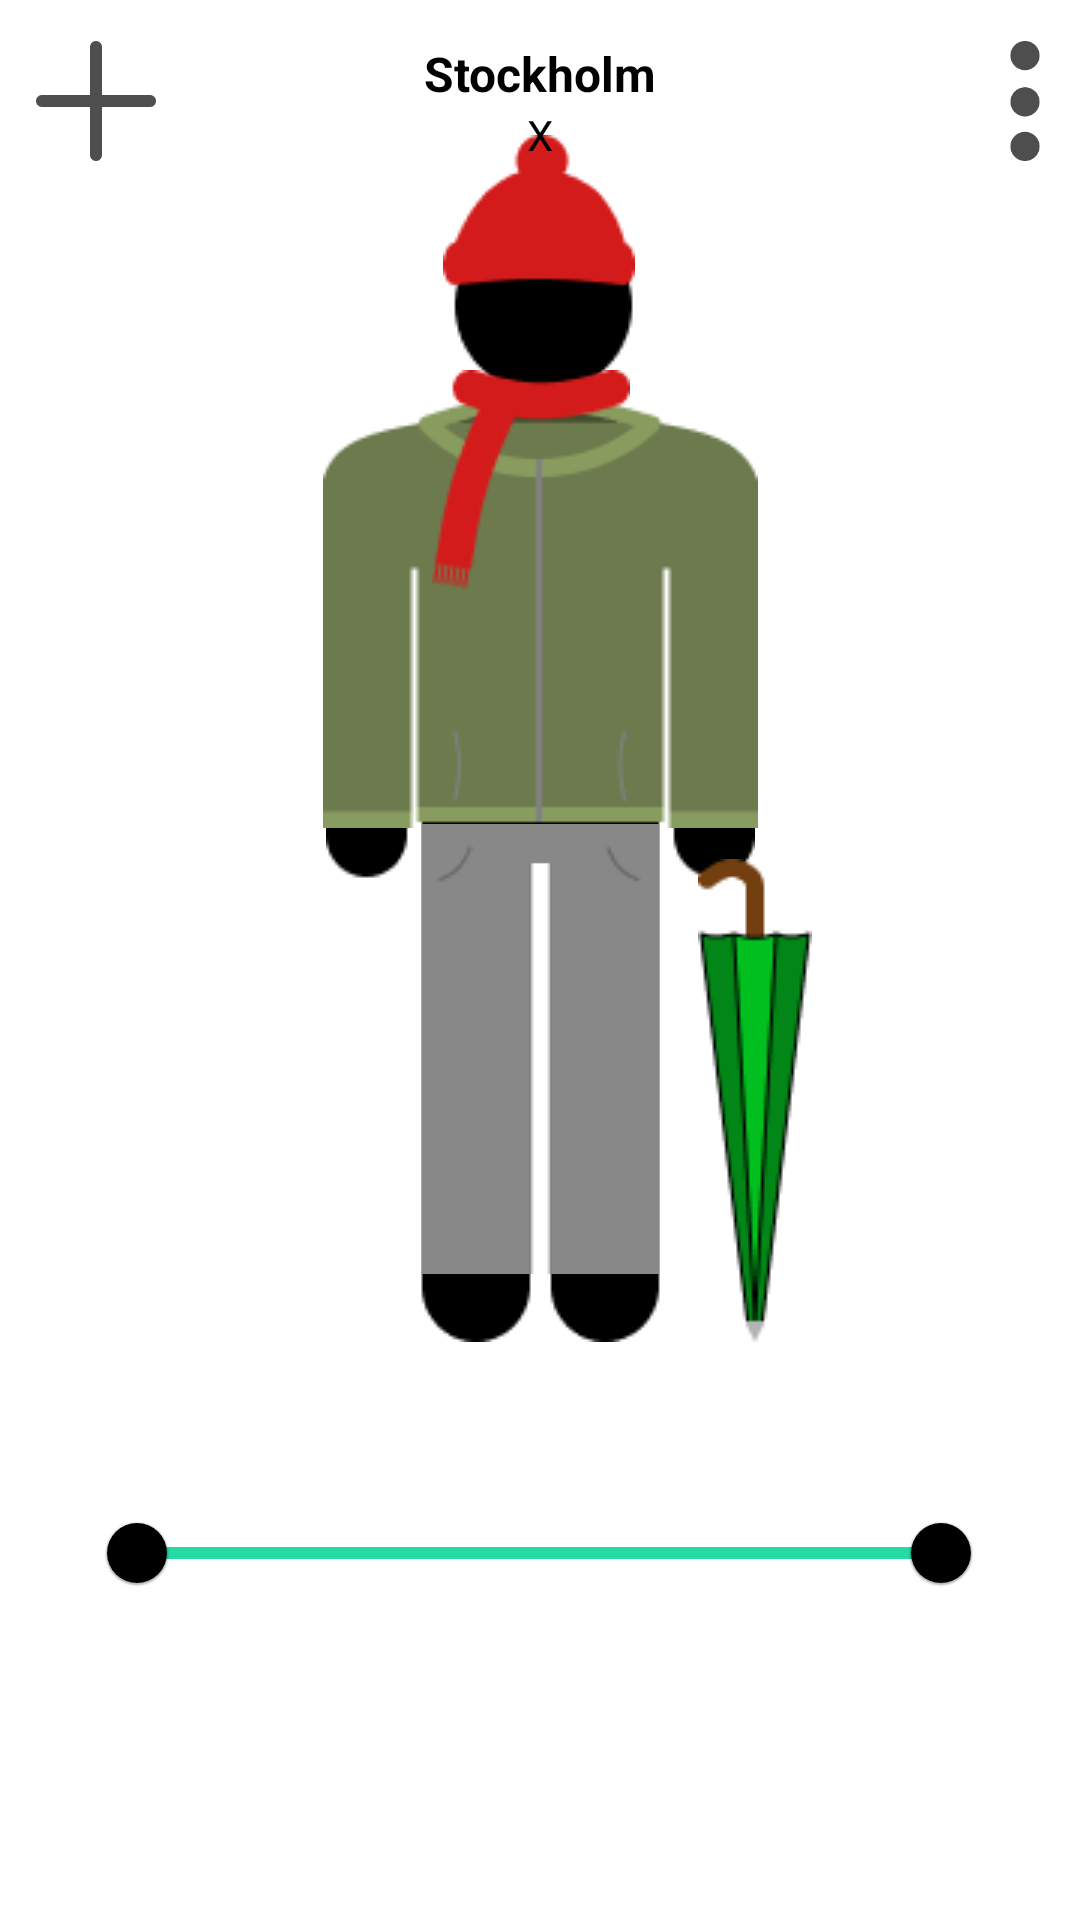

Icon click points for this 1080px×1920px phone screenshot, format point (x, y):
plus: point (96, 101)
settings dots vertical: point (1025, 101)
